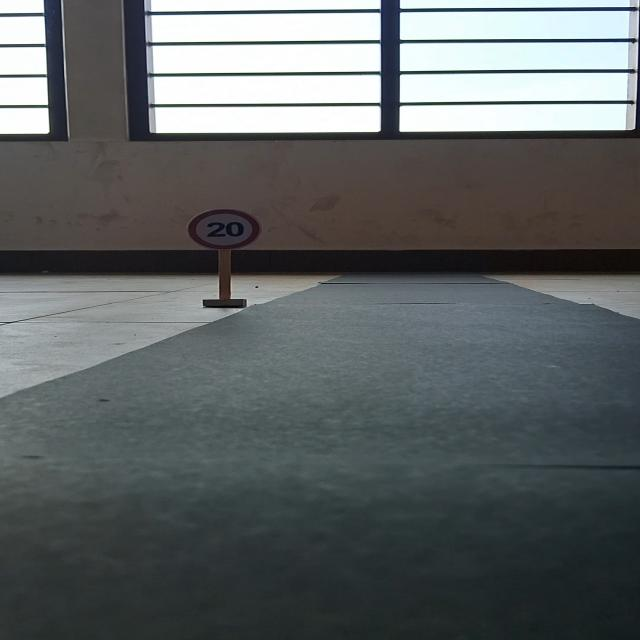Speed20: (180, 202, 268, 252)
